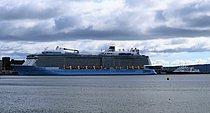Ship: (7, 45, 165, 82)
